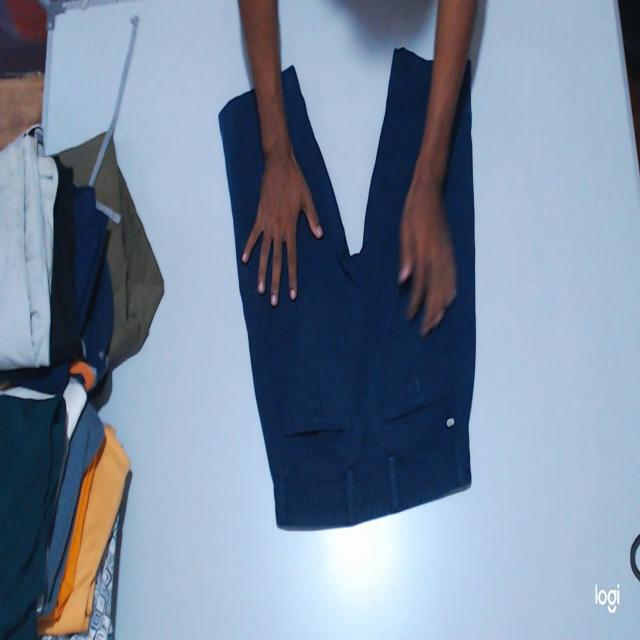new-garment: (219, 49, 476, 529)
